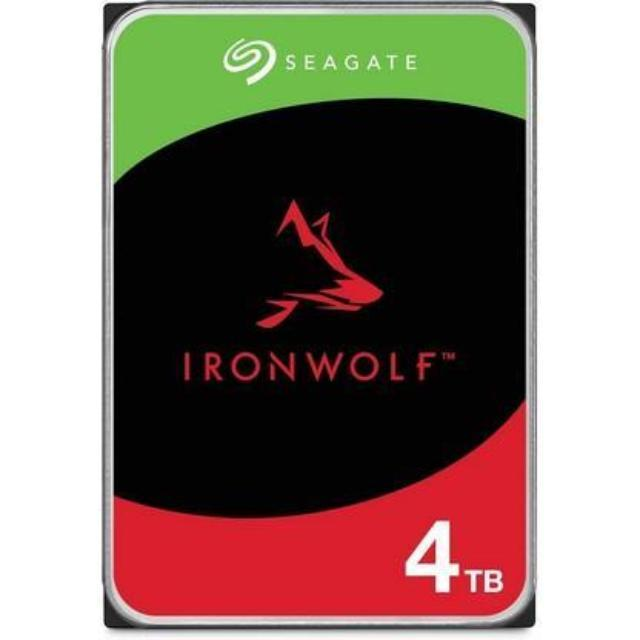DISK: (94, 0, 540, 637)
